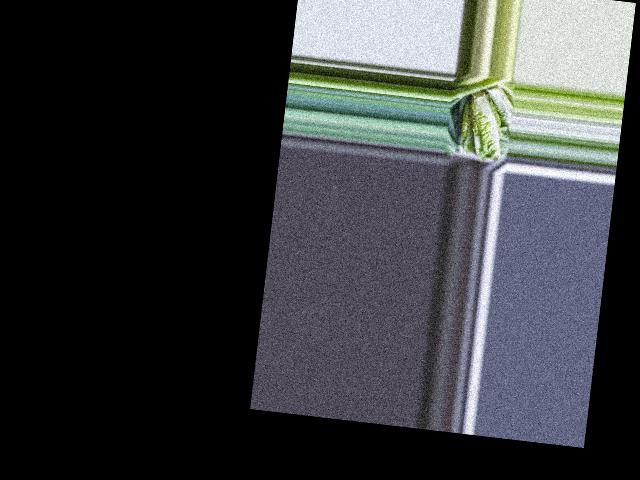lettuce: (457, 88, 508, 162)
